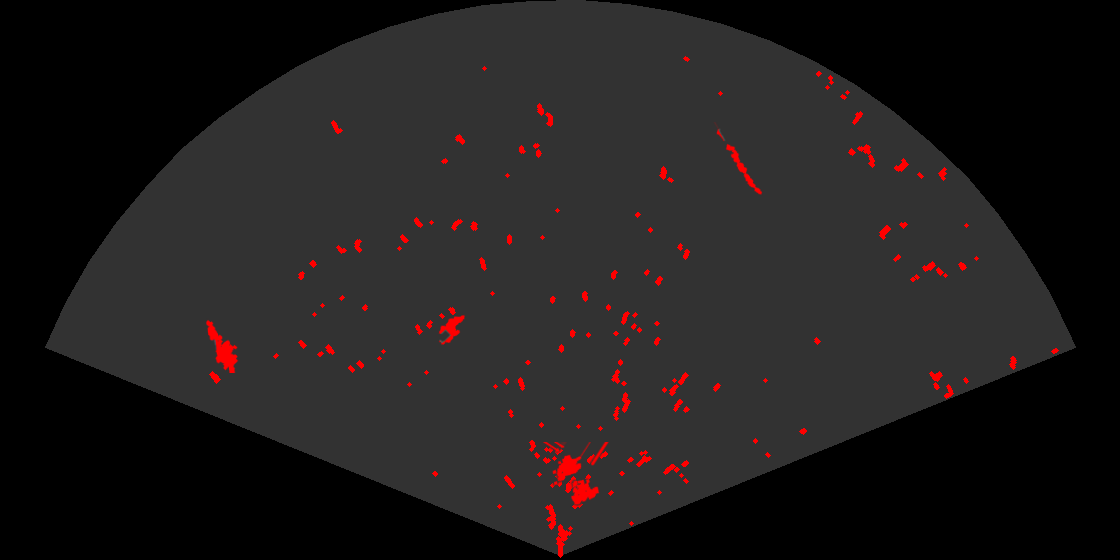AUV: (437, 313, 467, 347)
cage: (541, 442, 610, 507)
chain: (712, 122, 764, 196)
frogman: (205, 318, 240, 373)
